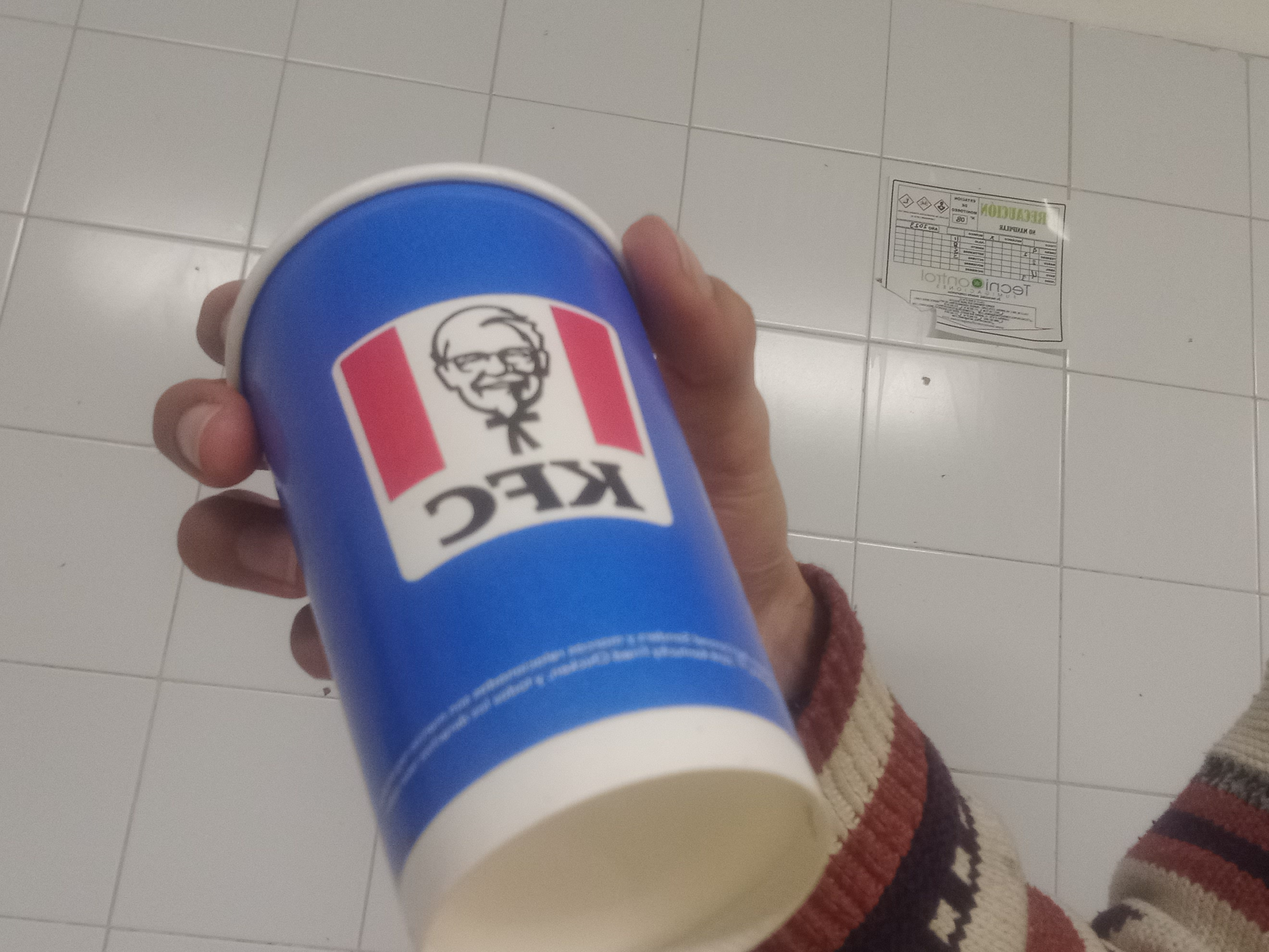Carton: (220, 159, 838, 952)
